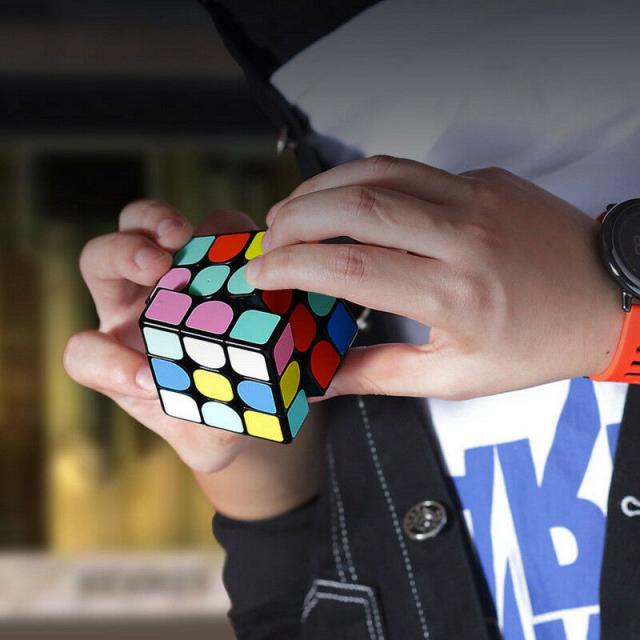cube: (139, 215, 361, 452)
